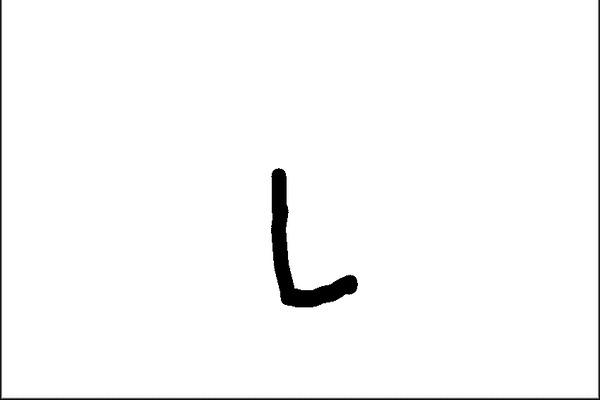L: (261, 161, 363, 312)
